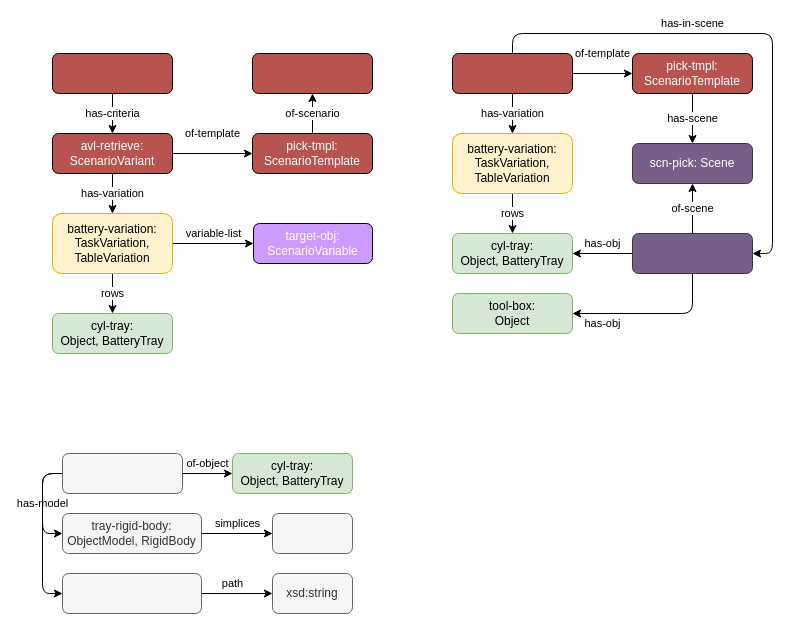
Some shapes in this 798 by 631 pixel diagram are drawn without their labels. The shapes that lost their labels are listed below. From the top down, each one's centre as x and y in pixels, then its label:
[112,73]: us-single-arm: UserStory
[312,73]: scenario-pick: Scenario
[512,73]: pickplace-hbrs: ScenarioVariant
[692,253]: scn-has-obj-avl: SceneHasObjects
[122,473]: modelled-tray: ModelledObject
[312,533]: tray-frame: Frame
[132,593]: tray-usd: ObjectModel, UsdFile
